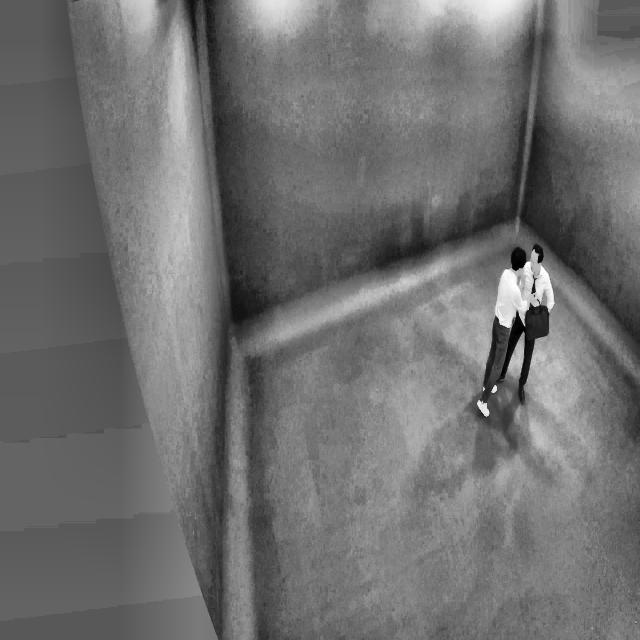assult: (473, 232, 554, 426), (508, 249, 553, 348)
